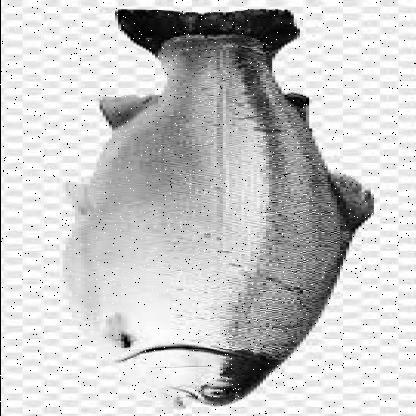fish: (57, 6, 382, 408)
